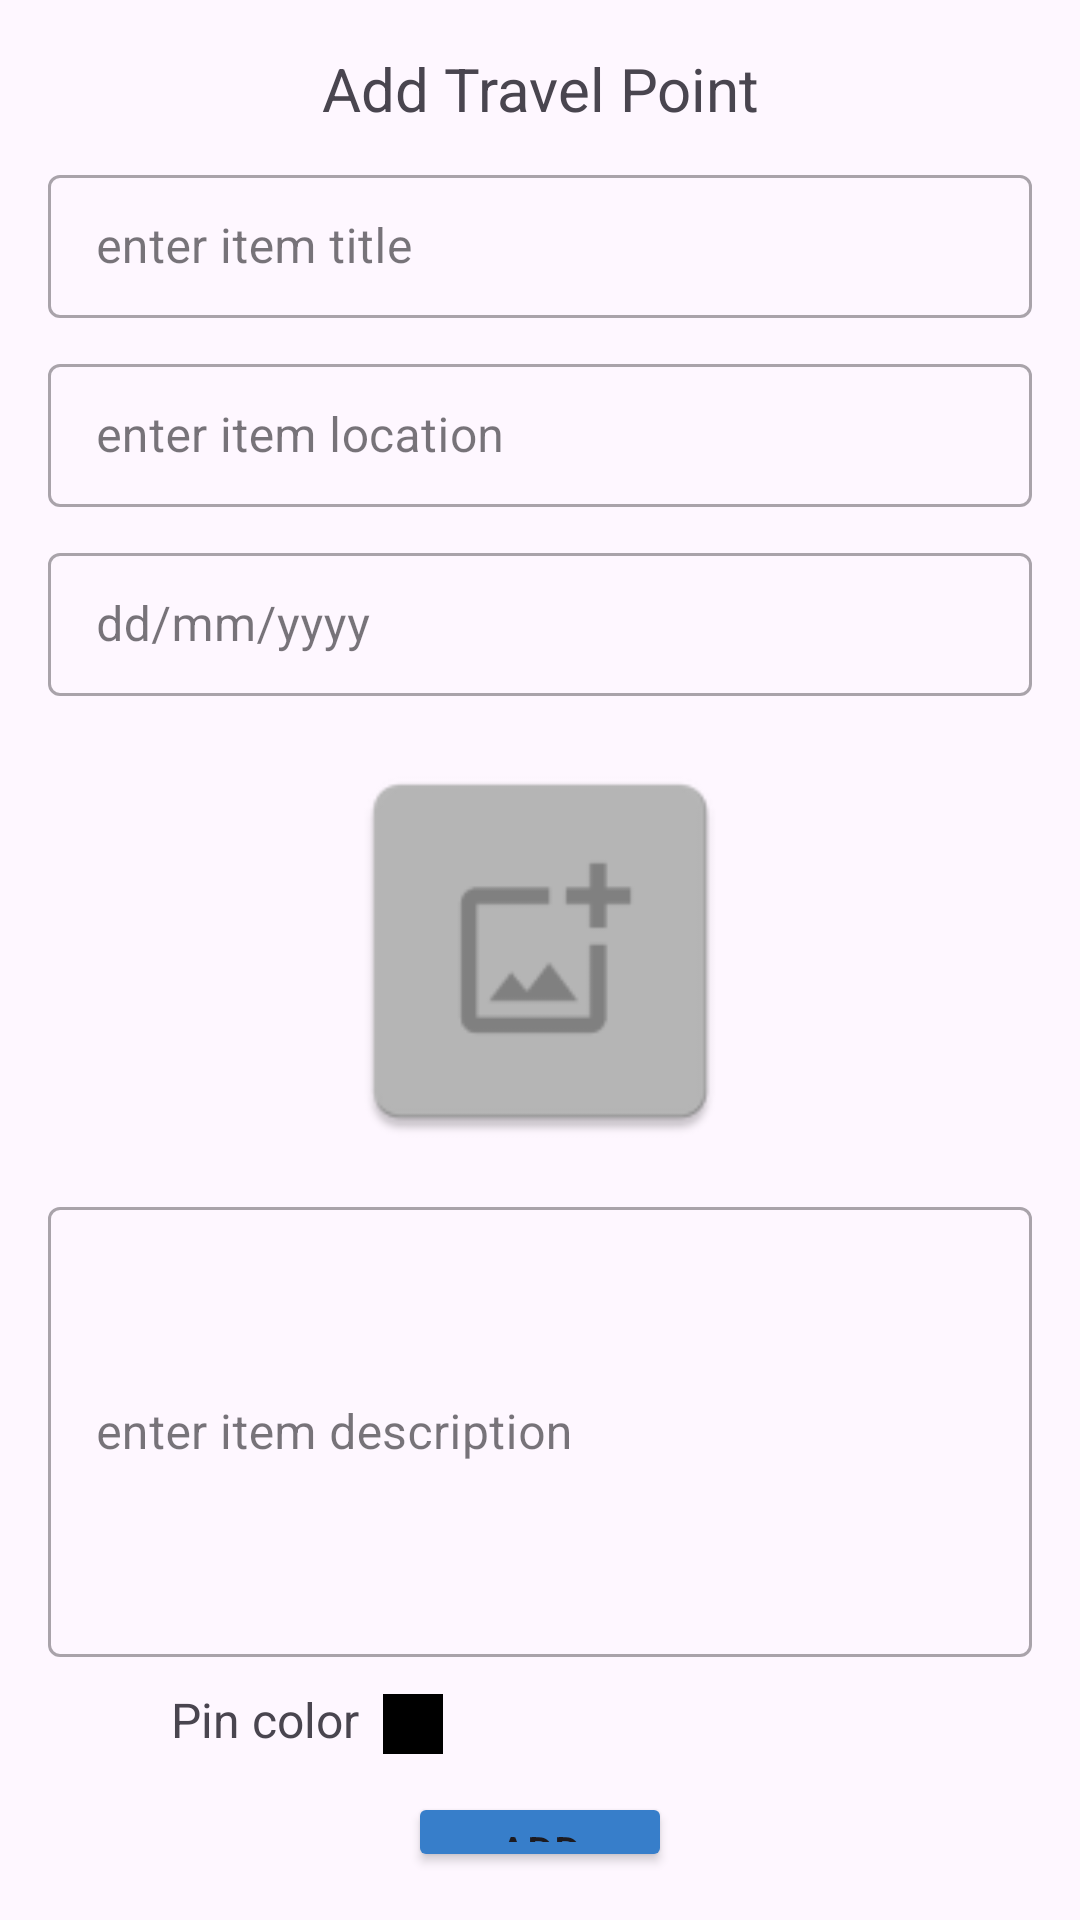

Named icons in this screenshot (1080 × 1920) and their bounding boxes, bbox(x1, y1, x2, y2):
photo: bbox(372, 784, 709, 1128)
